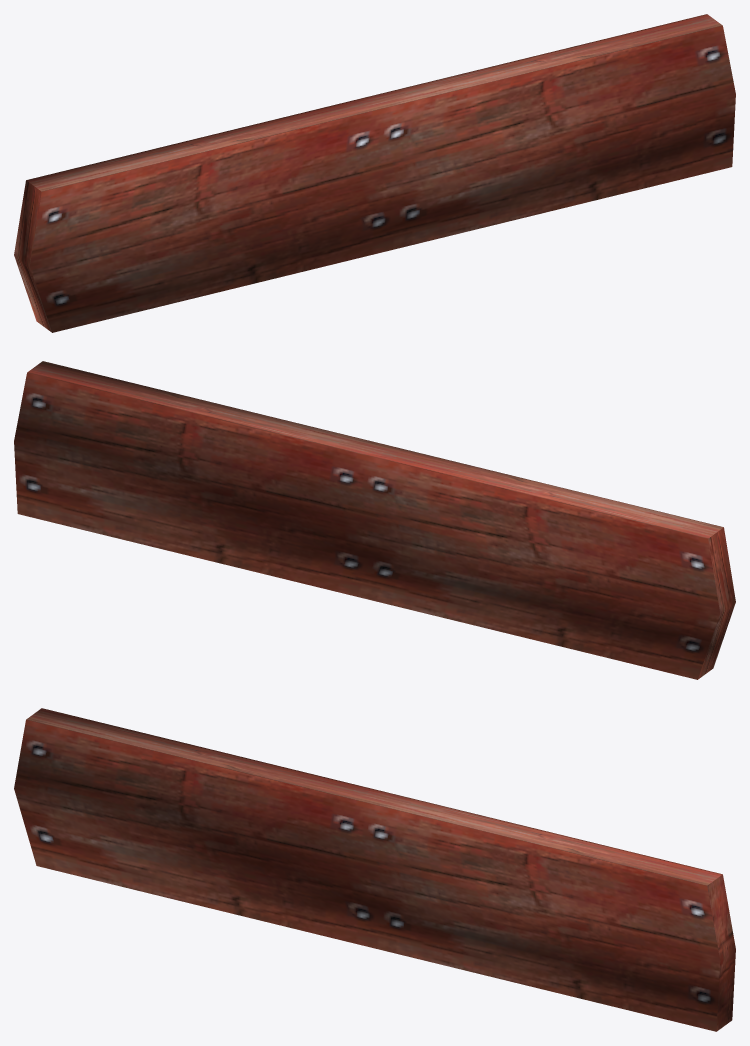
File: Block_Door.glb
3 renders of one model, top to bottom at view 1: azimuth 30°, elevation 25°; view 2: azimuth 150°, elevation 25°; view 3: azimuth 330°, elevation 25°, orthographic.
Parts seen in each view (by area): view 1: Block_Door; view 2: Block_Door; view 3: Block_Door.
Boxes of the visible parts, bbox=[...] form: Block_Door: bbox=[14, 14, 735, 332]; Block_Door: bbox=[14, 361, 735, 679]; Block_Door: bbox=[14, 708, 735, 1031].
Size of the model in its own units: 3.65 by 0.7104 by 0.1414.
1 material, 1 textured.
